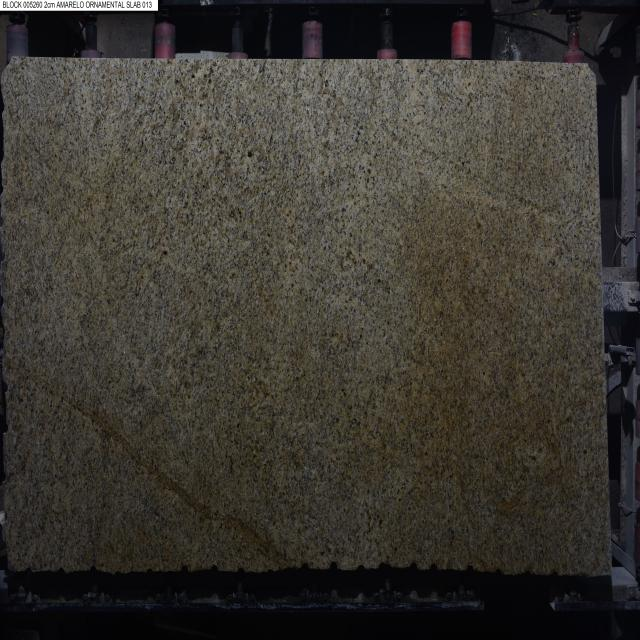chapa: (4, 60, 609, 576)
veio: (326, 558, 341, 574), (178, 563, 192, 576)
